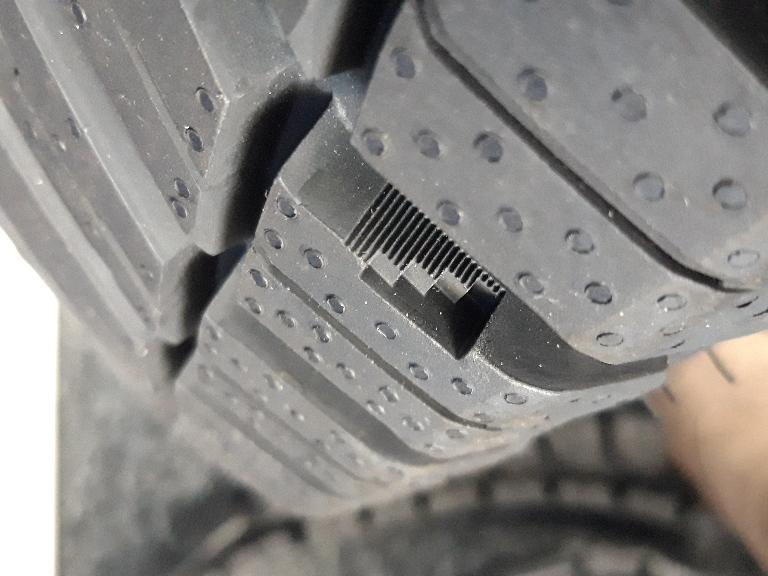temoin:100: (336, 176, 515, 368)
